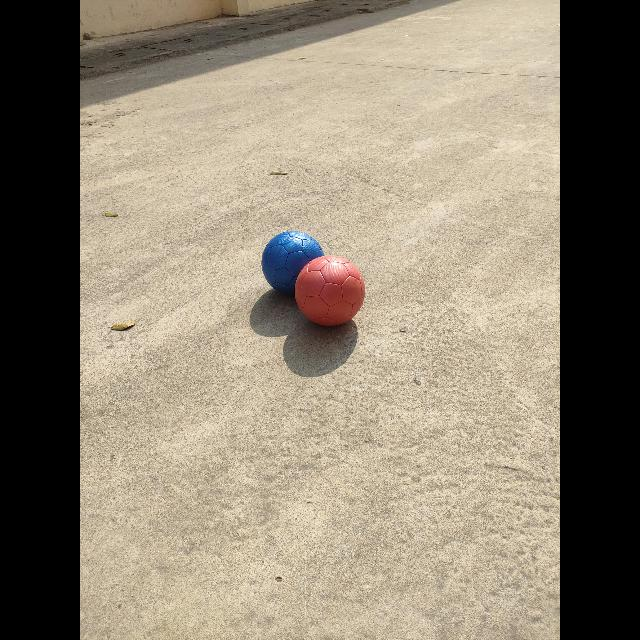B: (261, 231, 325, 296)
R: (294, 256, 365, 327)
